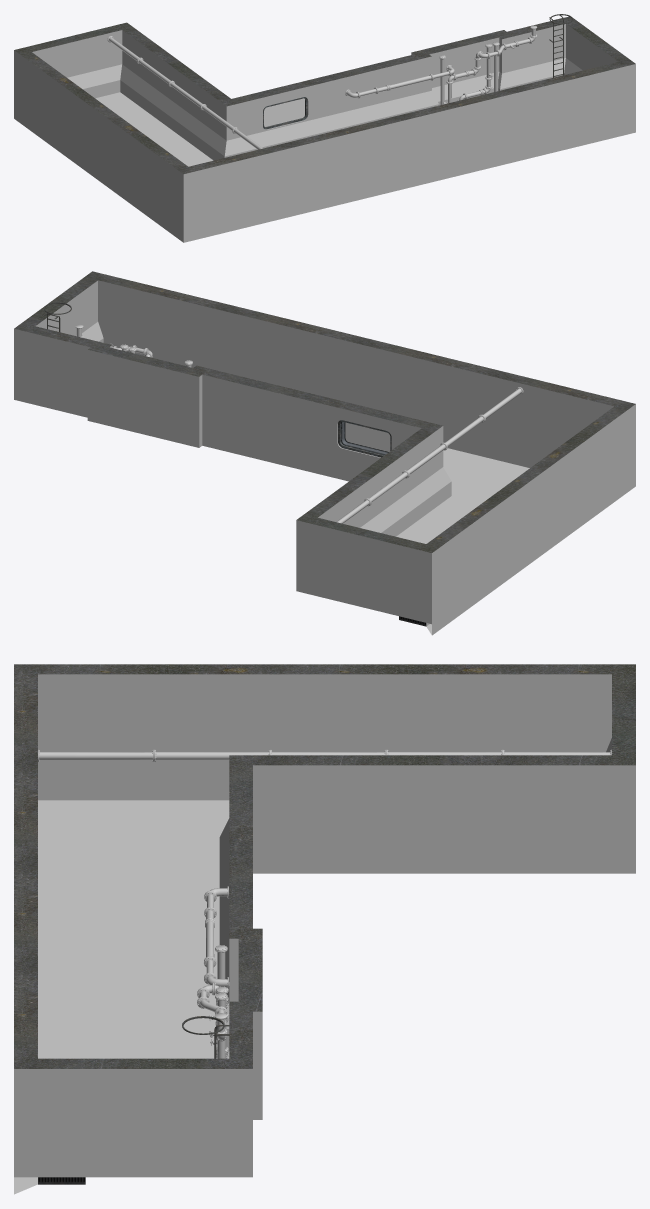
File: sewer.fbx
3 views of the same model, one above another, from view 1: azimuth 30°, elevation 25°; view 2: azimuth 150°, elevation 25°; view 3: azimuth 270°, elevation 25° (orthographic). The views are drawn at different scales.
Parts seen in each view (by area): view 1: Object018, Object013, Object002, Plane003, pipes002, glass_can; view 2: Object018, Object013, Object002, Plane003, glass_can, Object014; view 3: Object002, Object018, Plane003, Object013, pipes002, Object003, Object004.
Boxes of the visible parts, bbox=[...] form: Object018: bbox=[14, 50, 635, 242]; Object013: bbox=[224, 16, 569, 157]; Object002: bbox=[15, 17, 635, 160]; Plane003: bbox=[95, 92, 213, 166]; pipes002: bbox=[345, 25, 537, 104]; glass_can: bbox=[264, 98, 304, 126]; Object018: bbox=[92, 271, 635, 635]; Object013: bbox=[14, 326, 442, 481]; Object002: bbox=[14, 271, 451, 624]; Plane003: bbox=[396, 448, 529, 626]; glass_can: bbox=[345, 422, 390, 451]; Object014: bbox=[338, 420, 391, 457]; Object002: bbox=[14, 664, 635, 1177]; Object018: bbox=[14, 664, 635, 1194]; Plane003: bbox=[38, 800, 229, 1184]; Object013: bbox=[219, 755, 262, 1119]; pipes002: bbox=[197, 886, 229, 1058]; Object003: bbox=[38, 749, 154, 762]; Object004: bbox=[154, 749, 270, 762].
Size of the model in its own units: 2000 by 344 by 1300.
